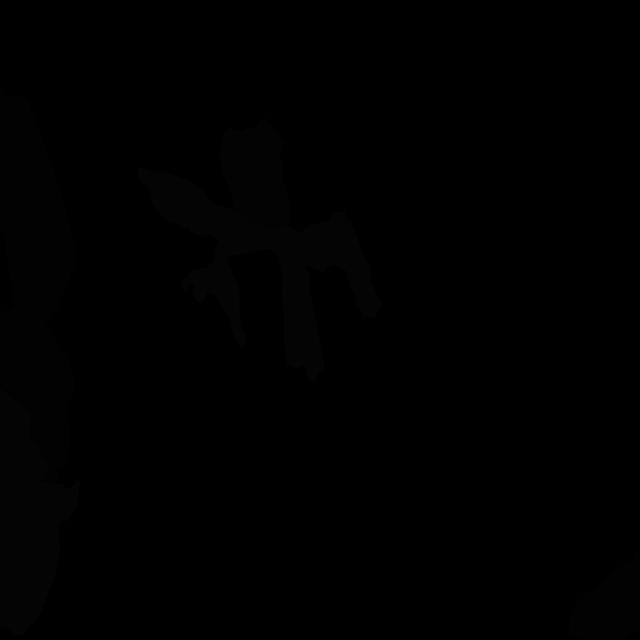cardboard: (0, 89, 76, 321), (0, 266, 75, 483), (568, 547, 640, 640)
metal: (219, 117, 290, 228)
soft_plastic: (138, 167, 382, 382), (0, 387, 80, 635)
